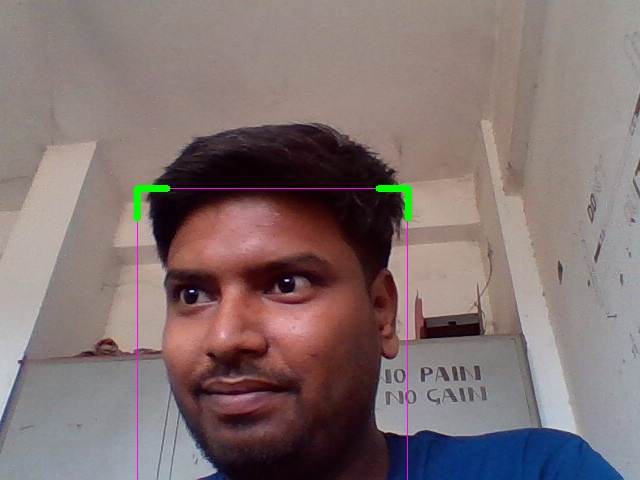real: (137, 188, 408, 480)
